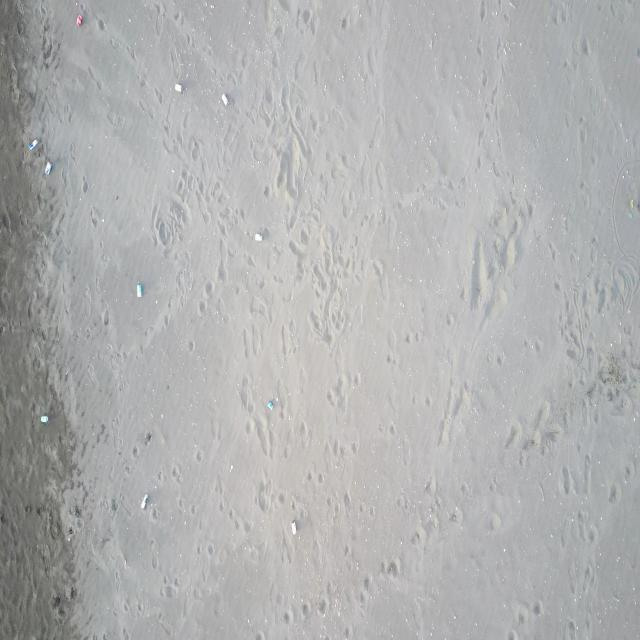tin-and-aluminum-cans: (139, 492, 150, 511), (27, 136, 39, 153), (136, 282, 144, 302), (290, 518, 298, 537), (44, 161, 52, 178), (221, 92, 229, 109), (266, 399, 275, 414), (174, 82, 184, 95), (254, 231, 264, 243), (40, 412, 49, 425), (75, 13, 83, 27)
